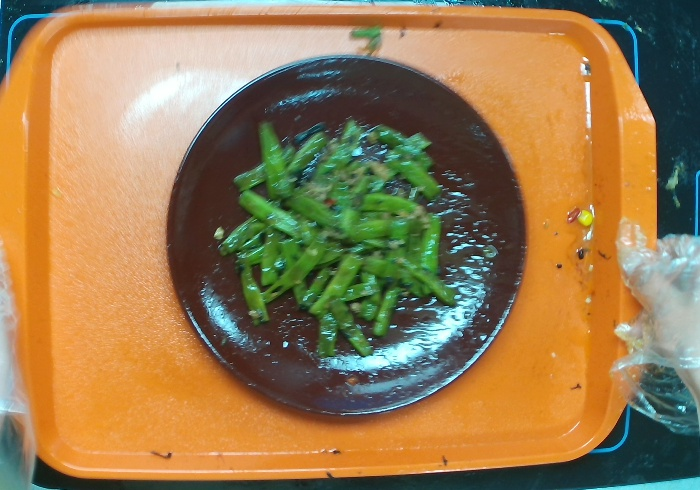HZYJPL-Ka_Fei_Yuan_Pan: (166, 52, 528, 420)
